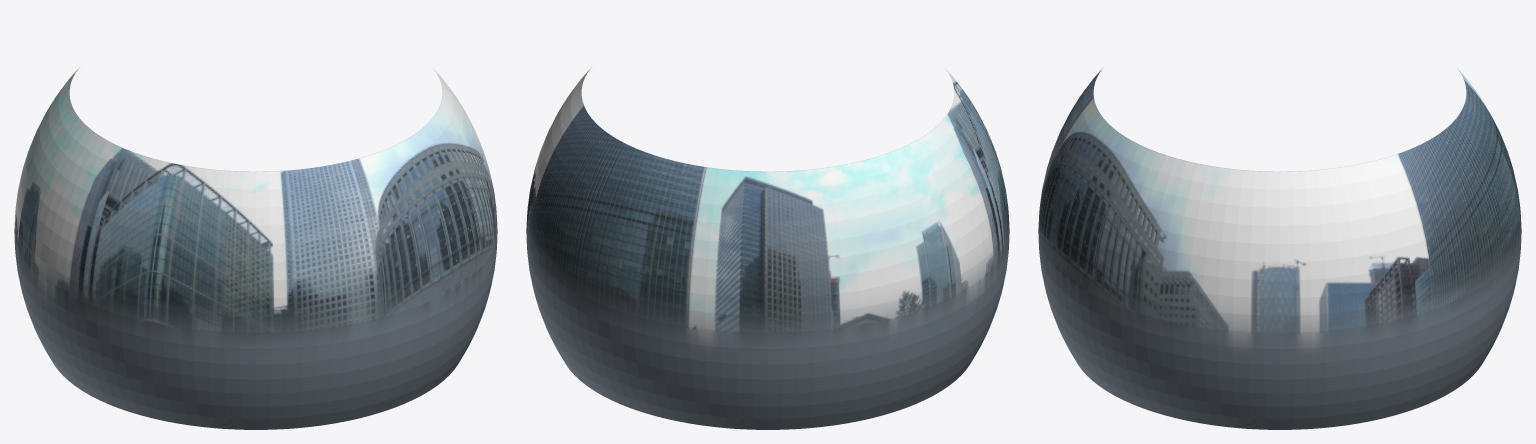
The model's file is office-full.c45ca93a.glb.
The picture shows the model from 3 angles, left to right: view 1: azimuth 30°, elevation 25°; view 2: azimuth 150°, elevation 25°; view 3: azimuth 270°, elevation 25°; orthographic projection.
Visible parts, largest first — view 1: exterior_city; view 2: exterior_city; view 3: exterior_city.
Boxes of the visible parts, x1,y1,x2,y2 form: exterior_city: [14, 68, 497, 429]; exterior_city: [526, 68, 1009, 429]; exterior_city: [1038, 68, 1521, 429].
Size of the model in its own units: 800 by 454 by 800.
Materials: 85 (45 with a texture image).
